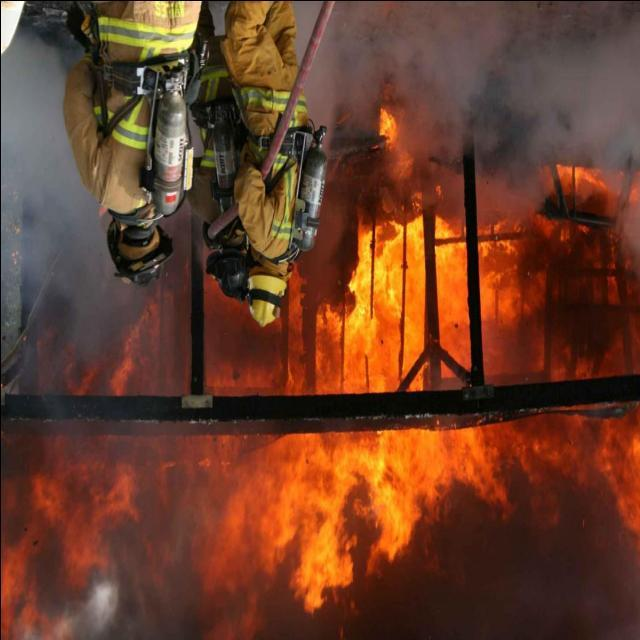Fire: (1, 154, 634, 623)
